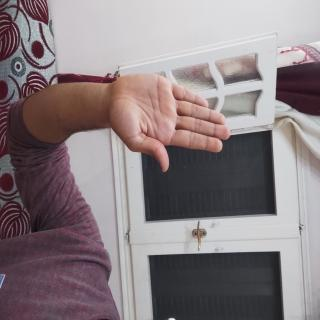SEEN: (47, 117, 134, 293)
